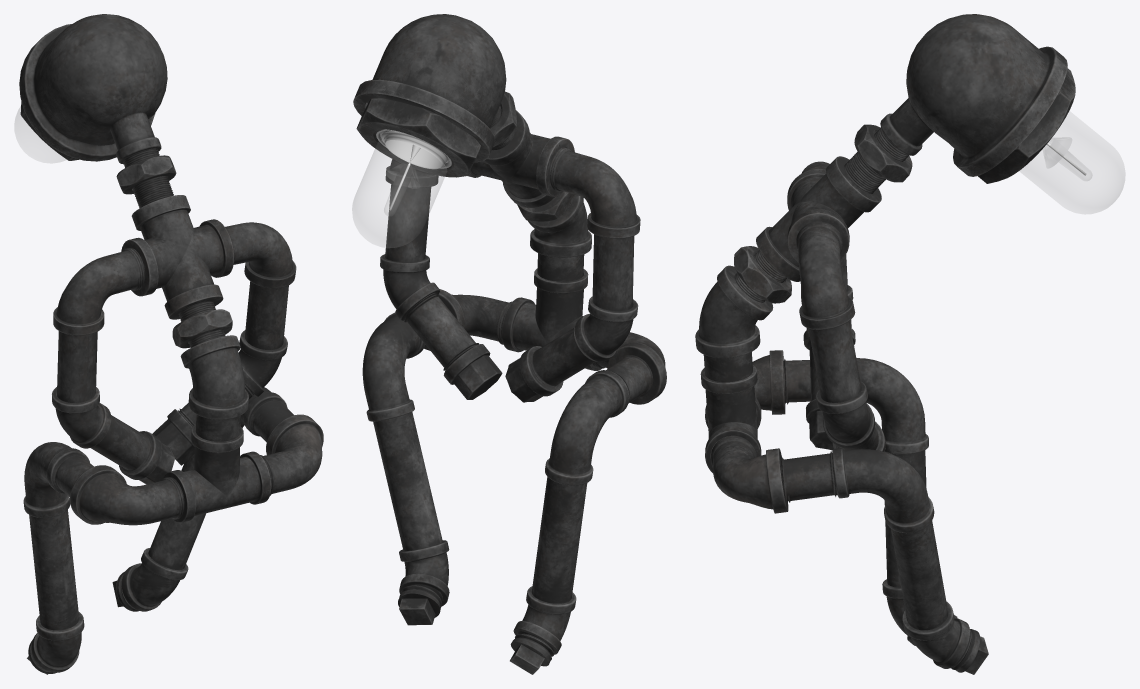
The model's file is RobotLampara.obj.
3 views of the same model, side by side, from view 1: azimuth 30°, elevation 25°; view 2: azimuth 150°, elevation 25°; view 3: azimuth 270°, elevation 25° (orthographic). The views are drawn at different scales.
Visible parts, largest first — view 1: Object_5_BlackMetal, Object_5_GlassVolume; view 2: Object_5_BlackMetal, Object_5_GlassVolume, Object_5_Metalic; view 3: Object_5_BlackMetal, Object_5_GlassVolume.
Part boxes in pixels (x1,y1,x2,y2): Object_5_BlackMetal: [19, 14, 323, 674]; Object_5_GlassVolume: [14, 107, 66, 163]; Object_5_BlackMetal: [353, 14, 666, 674]; Object_5_GlassVolume: [352, 139, 446, 247]; Object_5_Metalic: [381, 131, 449, 169]; Object_5_BlackMetal: [695, 14, 1075, 674]; Object_5_GlassVolume: [1019, 111, 1125, 214].
Bounding box in the file's own units: 1.92 × 4.65 × 2.69.
